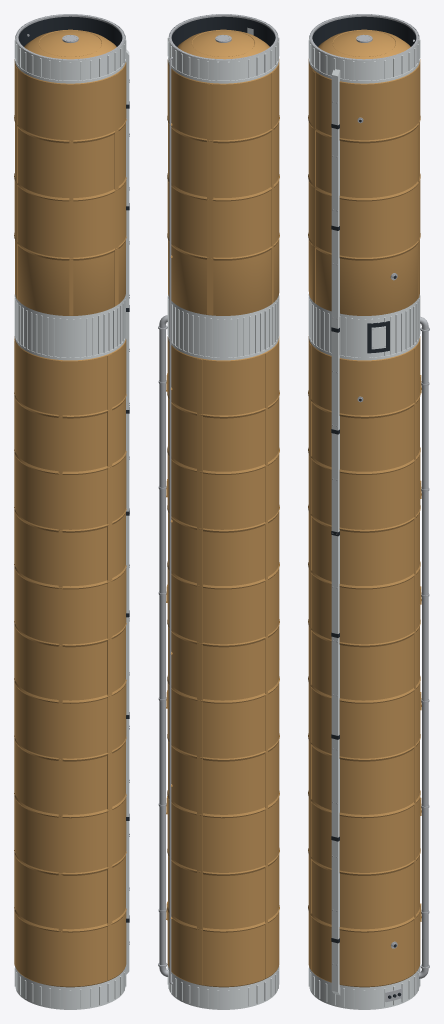
The model's file is tank_s1_s_hydrolox.fbx.
The picture shows the model from 3 angles, left to right: view 1: azimuth 90°, elevation 25°; view 2: azimuth 150°, elevation 25°; view 3: azimuth 330°, elevation 25°; orthographic projection.
Visible parts, largest first — view 1: tank_s1_s_hydrolox_LOD0; view 2: tank_s1_s_hydrolox_LOD0; view 3: tank_s1_s_hydrolox_LOD0.
Boxes of the visible parts, <box> form: tank_s1_s_hydrolox_LOD0: <box>14,14,129,1009</box>; tank_s1_s_hydrolox_LOD0: <box>158,14,279,1009</box>; tank_s1_s_hydrolox_LOD0: <box>308,14,429,1009</box>.
Size of what is drawn, in the model's own units: 3.87 by 35.3 by 3.9.
